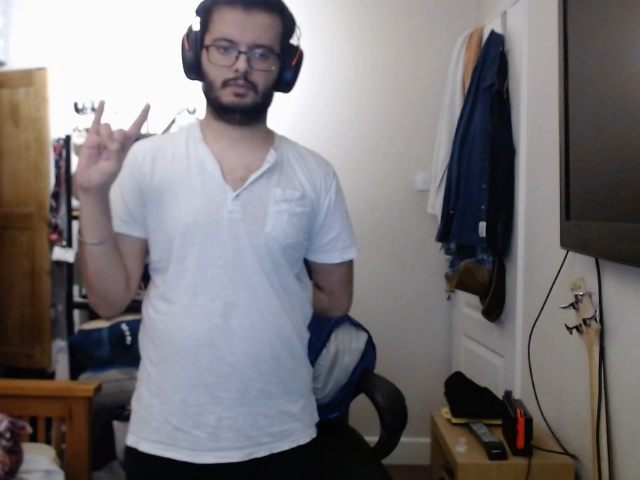Rock on: (67, 94, 158, 205)
